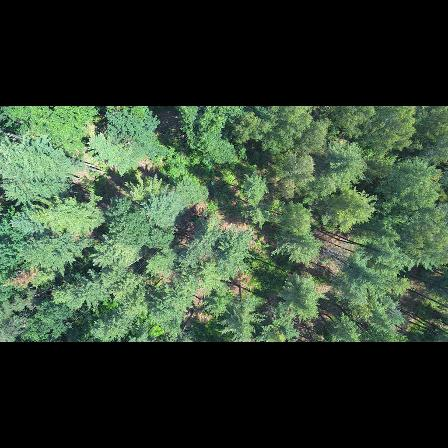Dead: (315, 246, 352, 272)
